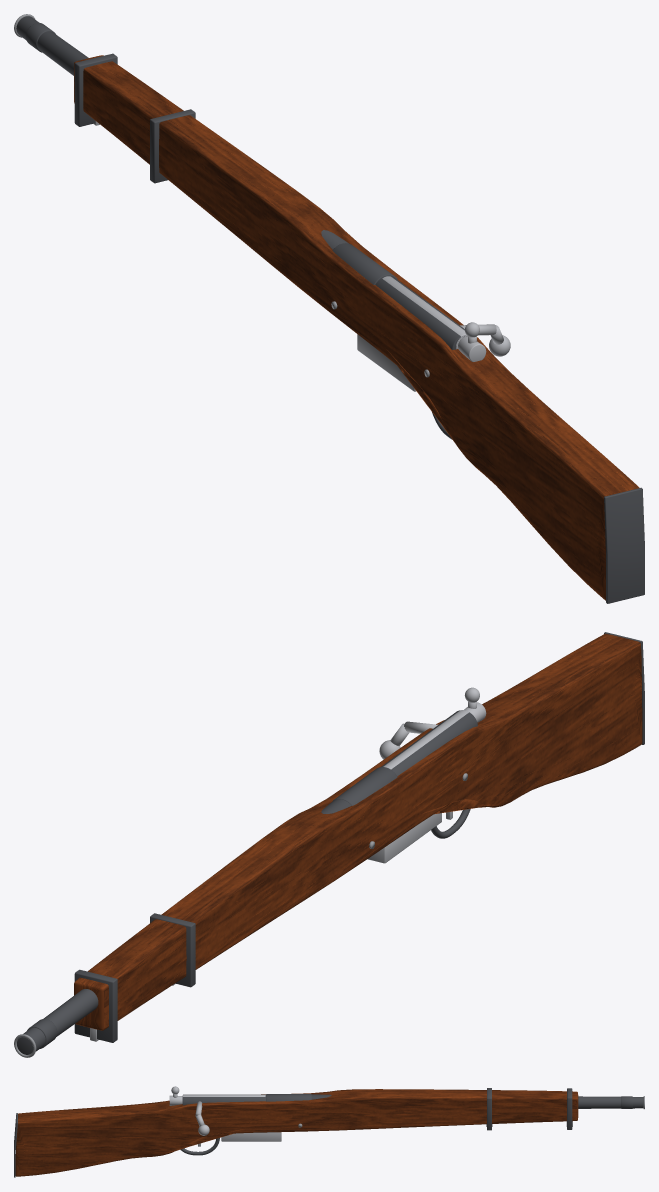
3 views of the same model, one above another, from view 1: azimuth 30°, elevation 25°; view 2: azimuth 150°, elevation 25°; view 3: azimuth 270°, elevation 25° (orthographic). The views are drawn at different scales.
Visible parts, largest first — view 1: stock, butt_plate, barrel, receiver, receiver_ring, band_1, band_0; view 2: stock, barrel, receiver, band_1, receiver_ring, floor_plate, band_0, bolt_body; view 3: stock, barrel, receiver, floor_plate, receiver_ring, band_1, band_0, trigger_guard, bolt_body.
Boxes of the visible parts, box(x1,y1,x2,y2) form: stock: box(74, 55, 639, 600); butt_plate: box(604, 487, 644, 603); barrel: box(16, 16, 348, 249); receiver: box(375, 276, 477, 349); receiver_ring: box(332, 243, 397, 284); band_1: box(74, 53, 117, 126); band_0: box(150, 109, 195, 183); stock: box(74, 633, 642, 1030); barrel: box(17, 799, 351, 1054); receiver: box(381, 710, 477, 775); band_1: box(74, 969, 117, 1042); receiver_ring: box(333, 767, 397, 805); floor_plate: box(367, 813, 441, 863); band_0: box(150, 913, 195, 987); bolt_body: box(383, 710, 468, 769); stock: box(15, 1089, 578, 1176); barrel: box(311, 1094, 643, 1108); receiver: box(182, 1094, 265, 1105); floor_plate: box(221, 1132, 281, 1141); receiver_ring: box(266, 1094, 311, 1101); band_1: box(567, 1088, 572, 1129); band_0: box(487, 1088, 491, 1130); trigger_guard: box(180, 1138, 219, 1155); bolt_body: box(182, 1095, 265, 1096).
Size of the model in its own units: 0.0898 by 0.1655 by 1.1.
Materials: 4 (1 with a texture image).
